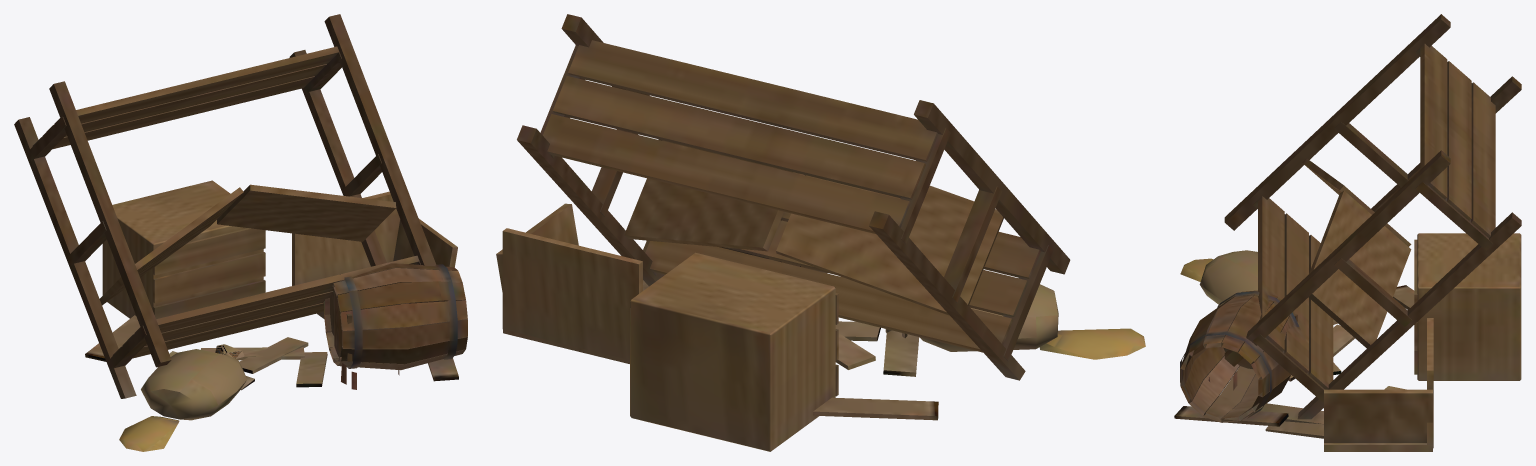
The model's file is wreck-heap.low.glb.
3 views of the same model, side by side, from view 1: azimuth 30°, elevation 25°; view 2: azimuth 150°, elevation 25°; view 3: azimuth 270°, elevation 25° (orthographic). The views are drawn at different scales.
Parts seen in each view (by area): view 1: wreck-heap; view 2: wreck-heap; view 3: wreck-heap.
Boxes of the visible parts, box(x1,y1,x2,y2) form: wreck-heap: box(14, 14, 467, 451); wreck-heap: box(496, 14, 1145, 451); wreck-heap: box(1174, 14, 1521, 451).
Size of the model in its own units: 1.77 by 1.14 by 1.34.
Materials: 1 (1 with a texture image).
